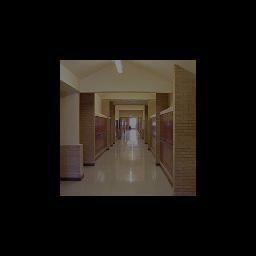Armario: (161, 115, 173, 183), (96, 118, 107, 159), (151, 120, 155, 154)
